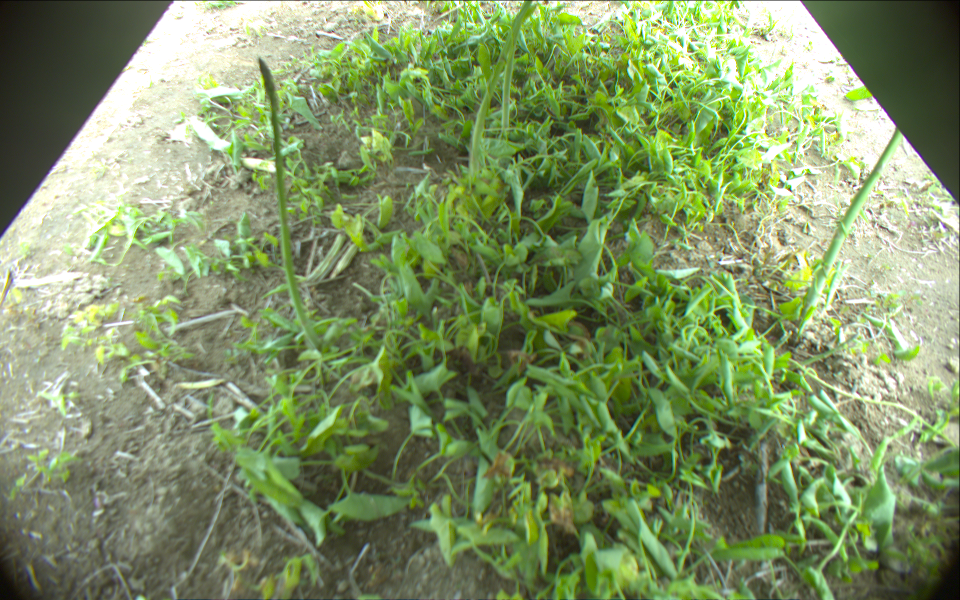aspa: (255, 57, 328, 352), (800, 121, 900, 322), (468, 1, 534, 179), (501, 15, 517, 143)
